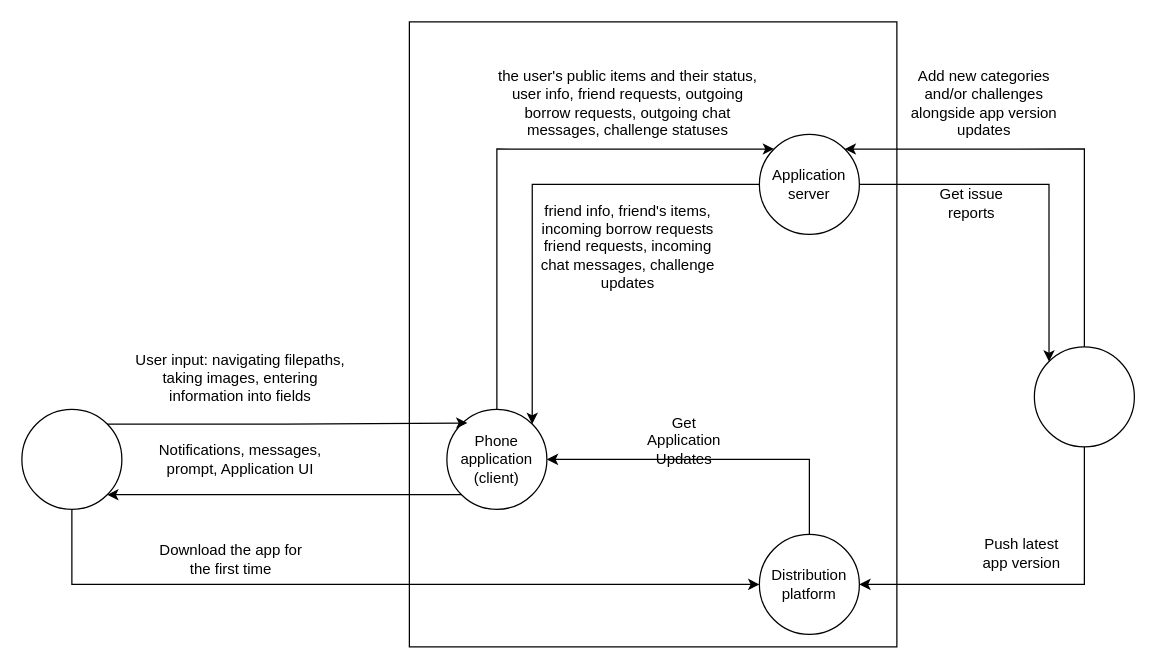
Some shapes in this 1156 by 669 pixel diagram are drawn without their labels. Here are the shapes that lost their labels. From the top down, the centre of each, then its label:
At pixel 1083 396: "Developers".
At pixel 71 458: "User".
